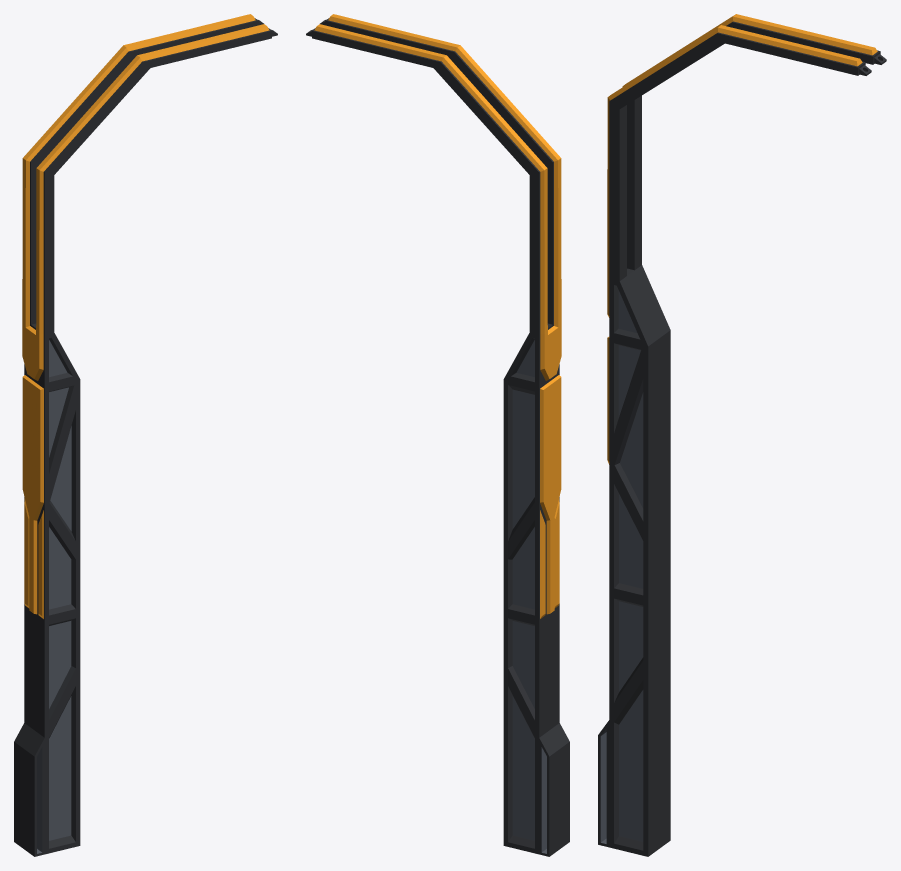
File: SM_Pillar_for_the_conveyor.glb
3 renders of one model, left to right at view 1: azimuth 30°, elevation 25°; view 2: azimuth 150°, elevation 25°; view 3: azimuth 330°, elevation 25°, orthographic. The views are drawn at different scales.
Parts seen in each view (by area): view 1: SM_Pillar_for_the_conveyor; view 2: SM_Pillar_for_the_conveyor; view 3: SM_Pillar_for_the_conveyor.
Part boxes in pixels (bbox=[...]): SM_Pillar_for_the_conveyor: bbox=[14, 14, 277, 856]; SM_Pillar_for_the_conveyor: bbox=[306, 14, 569, 856]; SM_Pillar_for_the_conveyor: bbox=[598, 14, 886, 856].
Size of the model in its own units: 1.74 by 5.24 by 0.2523.
Materials: 1 (1 with a texture image).
